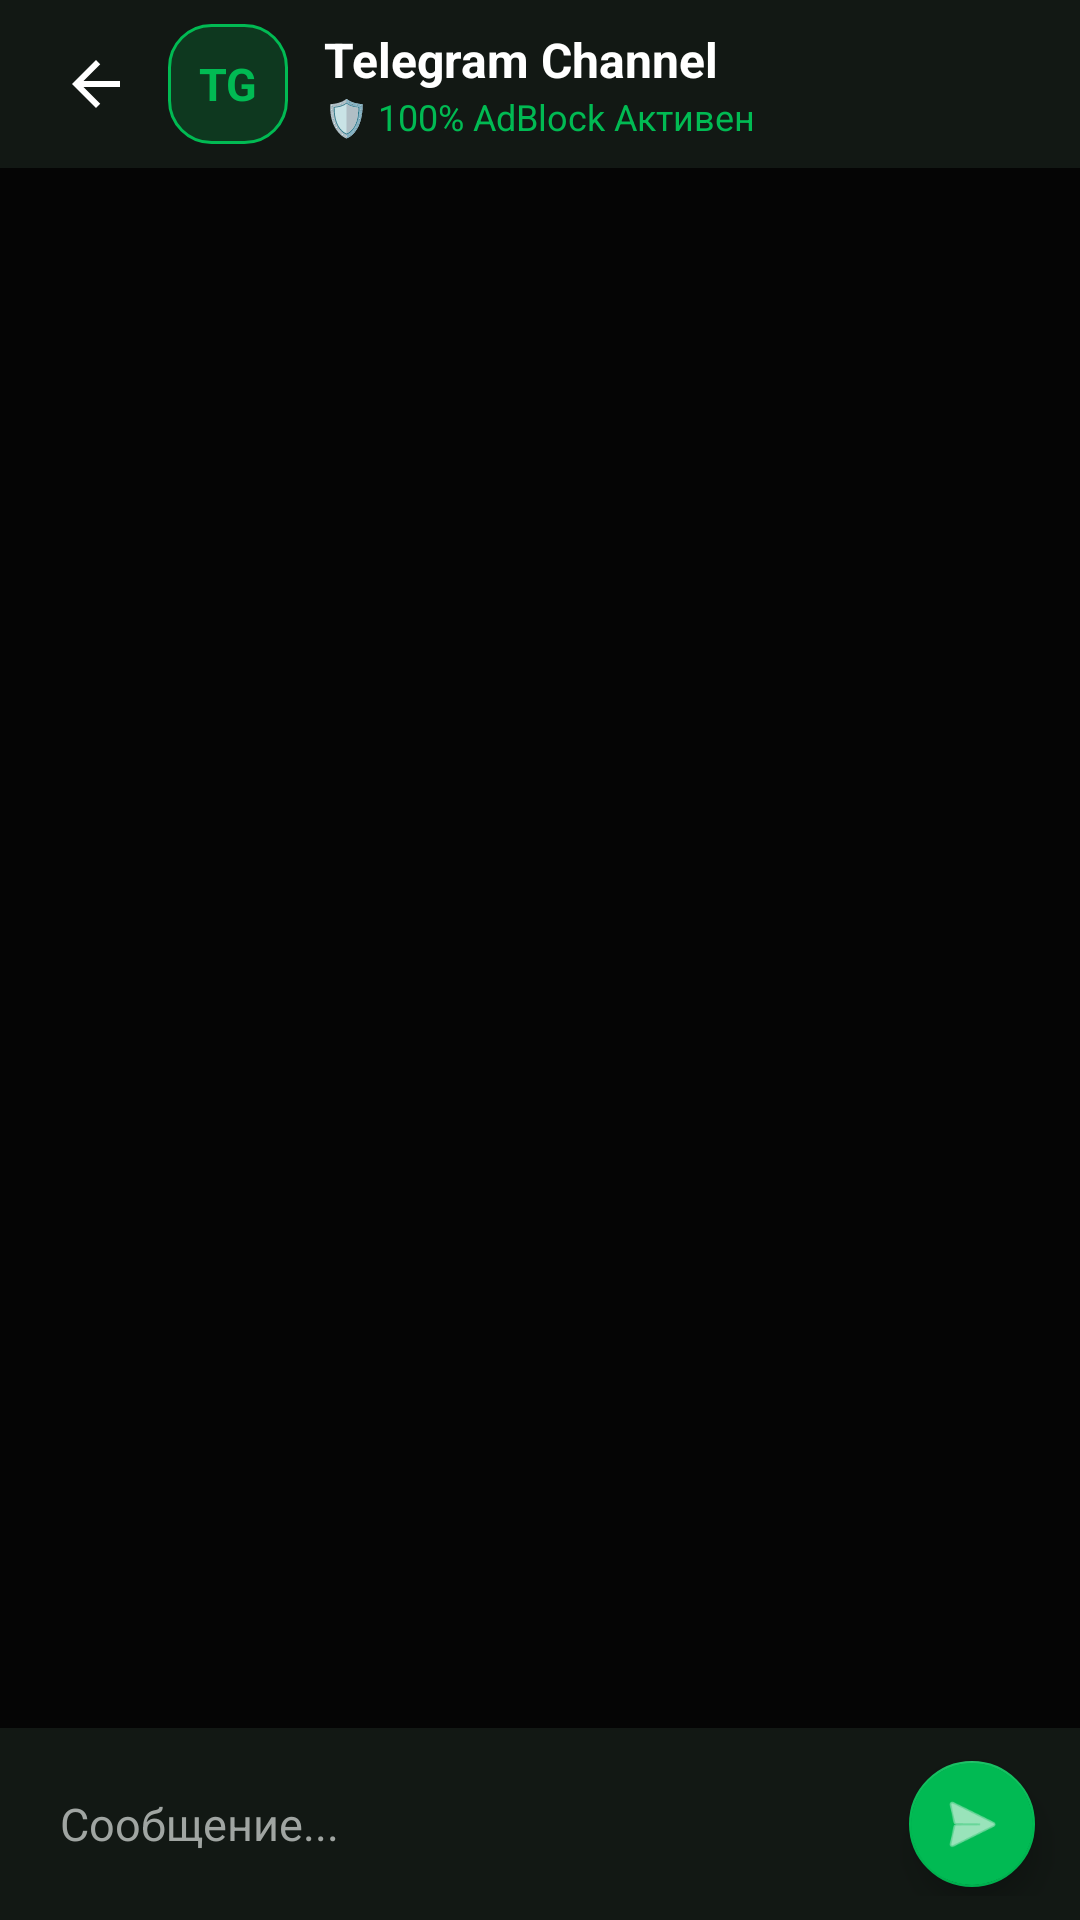

Where to tap for icons on this 1080 x 1920 app screen, as [x,y]:
Back: [96,84]
Send: [972,1824]
